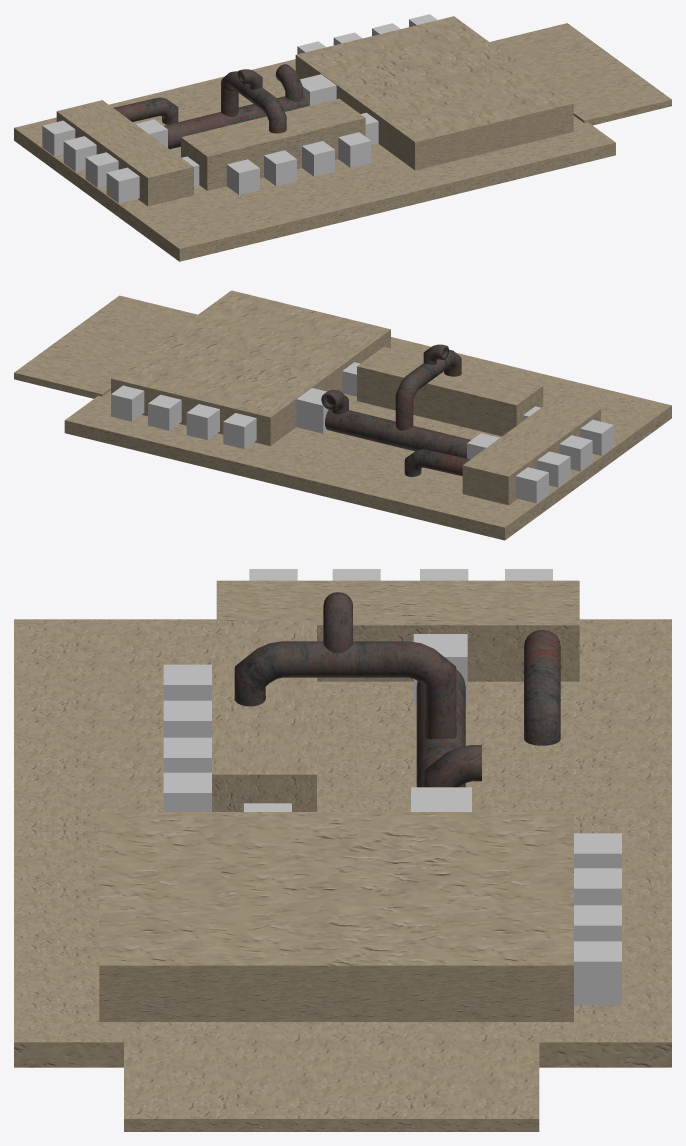
The model's file is Top_Market__Block.fbx.
3 views of the same model, one above another, from view 1: azimuth 30°, elevation 25°; view 2: azimuth 150°, elevation 25°; view 3: azimuth 270°, elevation 25° (orthographic). The views are drawn at different scales.
Visible parts, largest first — view 1: Top, Block_Top2, Block_Top, Block_Top1, Tube1, Tube4, Tube2, Fan_Air7, Fan_Air12, Fan_Air15, Fan_Air14, Fan_Air13 (+7 smaller); view 2: Top, Block_Top2, Block_Top, Block_Top1, Tube4, Tube1, Tube2, Fan_Air10, Fan_Air1, Fan_Air2, Fan_Air, Fan_Air3 (+8 smaller); view 3: Top, Block_Top2, Block_Top1, Block_Top, Tube1, Tube2, Fan_Air, Tube4, Fan_Air12, Tube, Fan_Air14, Fan_Air2 (+7 smaller).
Part boxes in pixels (<box>): Top: <box>14,23,671,261</box>; Block_Top2: <box>295,16,573,170</box>; Block_Top: <box>181,98,365,190</box>; Block_Top1: <box>56,100,193,206</box>; Tube1: <box>221,71,286,133</box>; Tube4: <box>164,94,308,149</box>; Tube2: <box>113,97,178,124</box>; Fan_Air7: <box>106,167,139,203</box>; Fan_Air12: <box>338,132,371,167</box>; Fan_Air15: <box>227,159,259,194</box>; Fan_Air14: <box>264,150,296,185</box>; Fan_Air13: <box>302,141,334,176</box>; Top: <box>14,295,671,540</box>; Block_Top2: <box>111,290,390,445</box>; Block_Top: <box>357,347,543,436</box>; Block_Top1: <box>462,398,600,505</box>; Tube4: <box>325,410,470,458</box>; Tube1: <box>395,349,461,430</box>; Tube2: <box>404,449,470,476</box>; Fan_Air10: <box>296,388,328,433</box>; Fan_Air1: <box>148,394,181,430</box>; Fan_Air2: <box>186,404,219,440</box>; Fan_Air: <box>111,385,144,421</box>; Fan_Air3: <box>223,413,256,448</box>; Top: <box>14,619,671,1131</box>; Block_Top2: <box>99,812,573,1021</box>; Block_Top1: <box>216,580,579,681</box>; Block_Top: <box>212,621,316,811</box>; Tube1: <box>234,641,456,739</box>; Tube2: <box>524,630,560,745</box>; Fan_Air: <box>574,941,621,1005</box>; Tube4: <box>416,669,465,787</box>; Fan_Air12: <box>163,772,211,811</box>; Tube: <box>424,745,481,787</box>; Fan_Air14: <box>163,700,211,737</box>; Fan_Air2: <box>574,868,621,905</box>.
Size of the model in its own units: 4262 by 752 by 2343.
